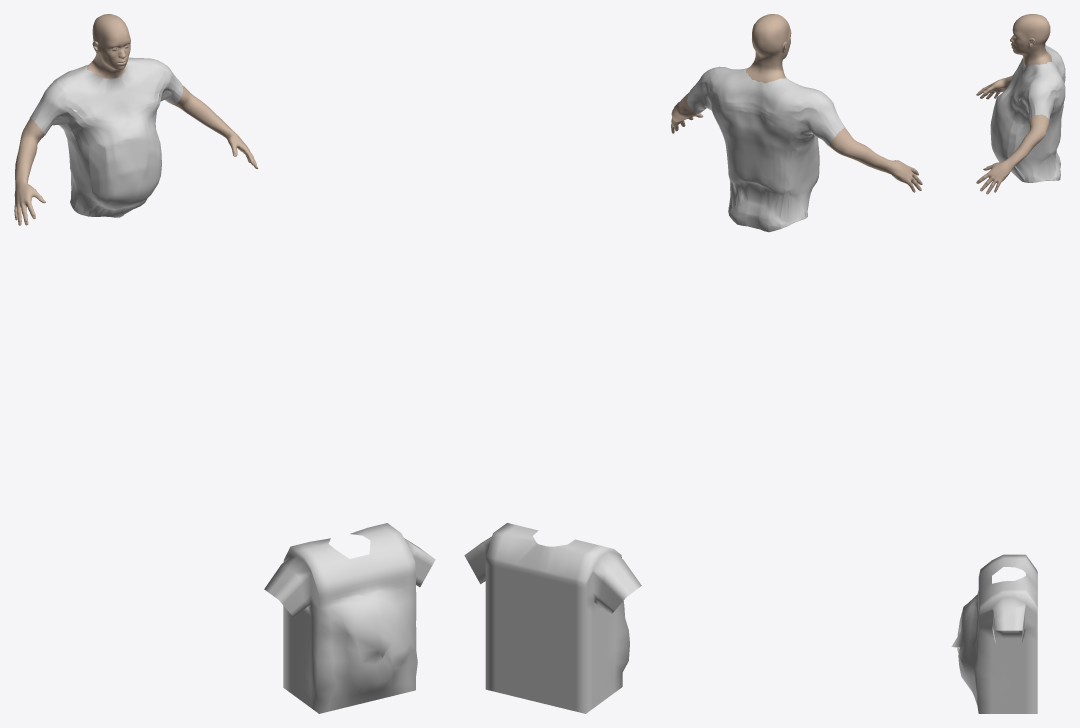
The picture shows the model from 3 angles, left to right: view 1: azimuth 30°, elevation 25°; view 2: azimuth 150°, elevation 25°; view 3: azimuth 270°, elevation 25°; orthographic projection. The views are drawn at different scales.
Visible parts, largest first — view 1: Cube.002, Cube, Base; view 2: Cube.002, Cube, Base; view 3: Cube.002, Cube, Base.
Part boxes in pixels (left/top/right/bottom): Cube.002: left=264, top=523, right=435, bottom=713; Cube: left=30, top=57, right=182, bottom=217; Base: left=14, top=14, right=258, bottom=225; Cube.002: left=464, top=523, right=641, bottom=713; Cube: left=687, top=66, right=845, bottom=232; Base: left=671, top=14, right=922, bottom=192; Cube.002: left=951, top=554, right=1037, bottom=713; Cube: left=990, top=45, right=1065, bottom=182; Base: left=976, top=14, right=1051, bottom=194.
Bounding box in the file's own units: 19.15 × 31.06 × 5.45.
